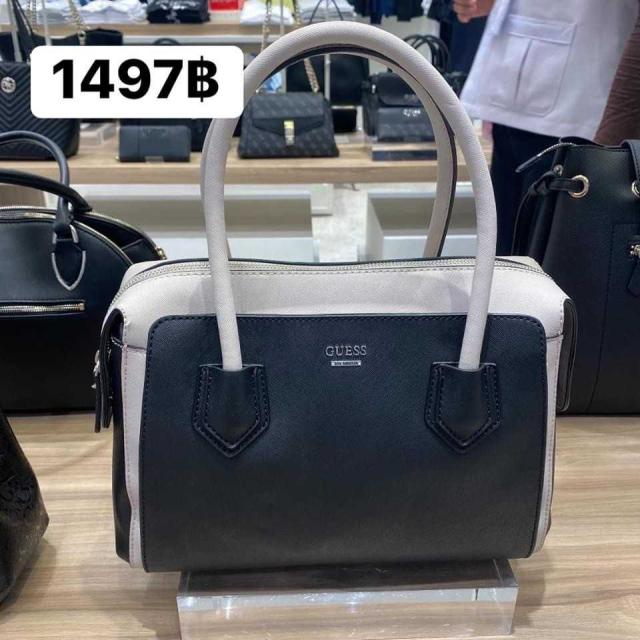handbag: (91, 244, 573, 577)
